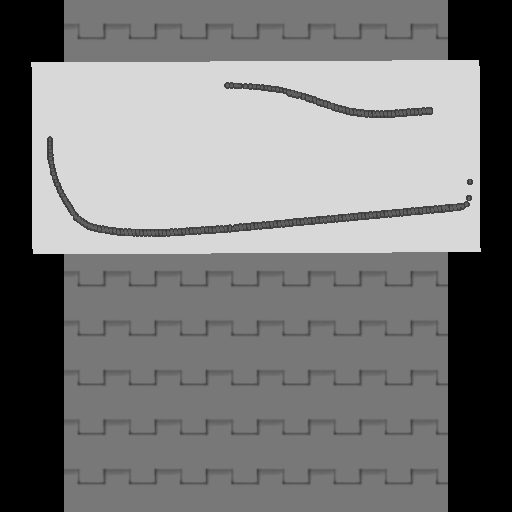Defect: (46, 80, 227, 139)
